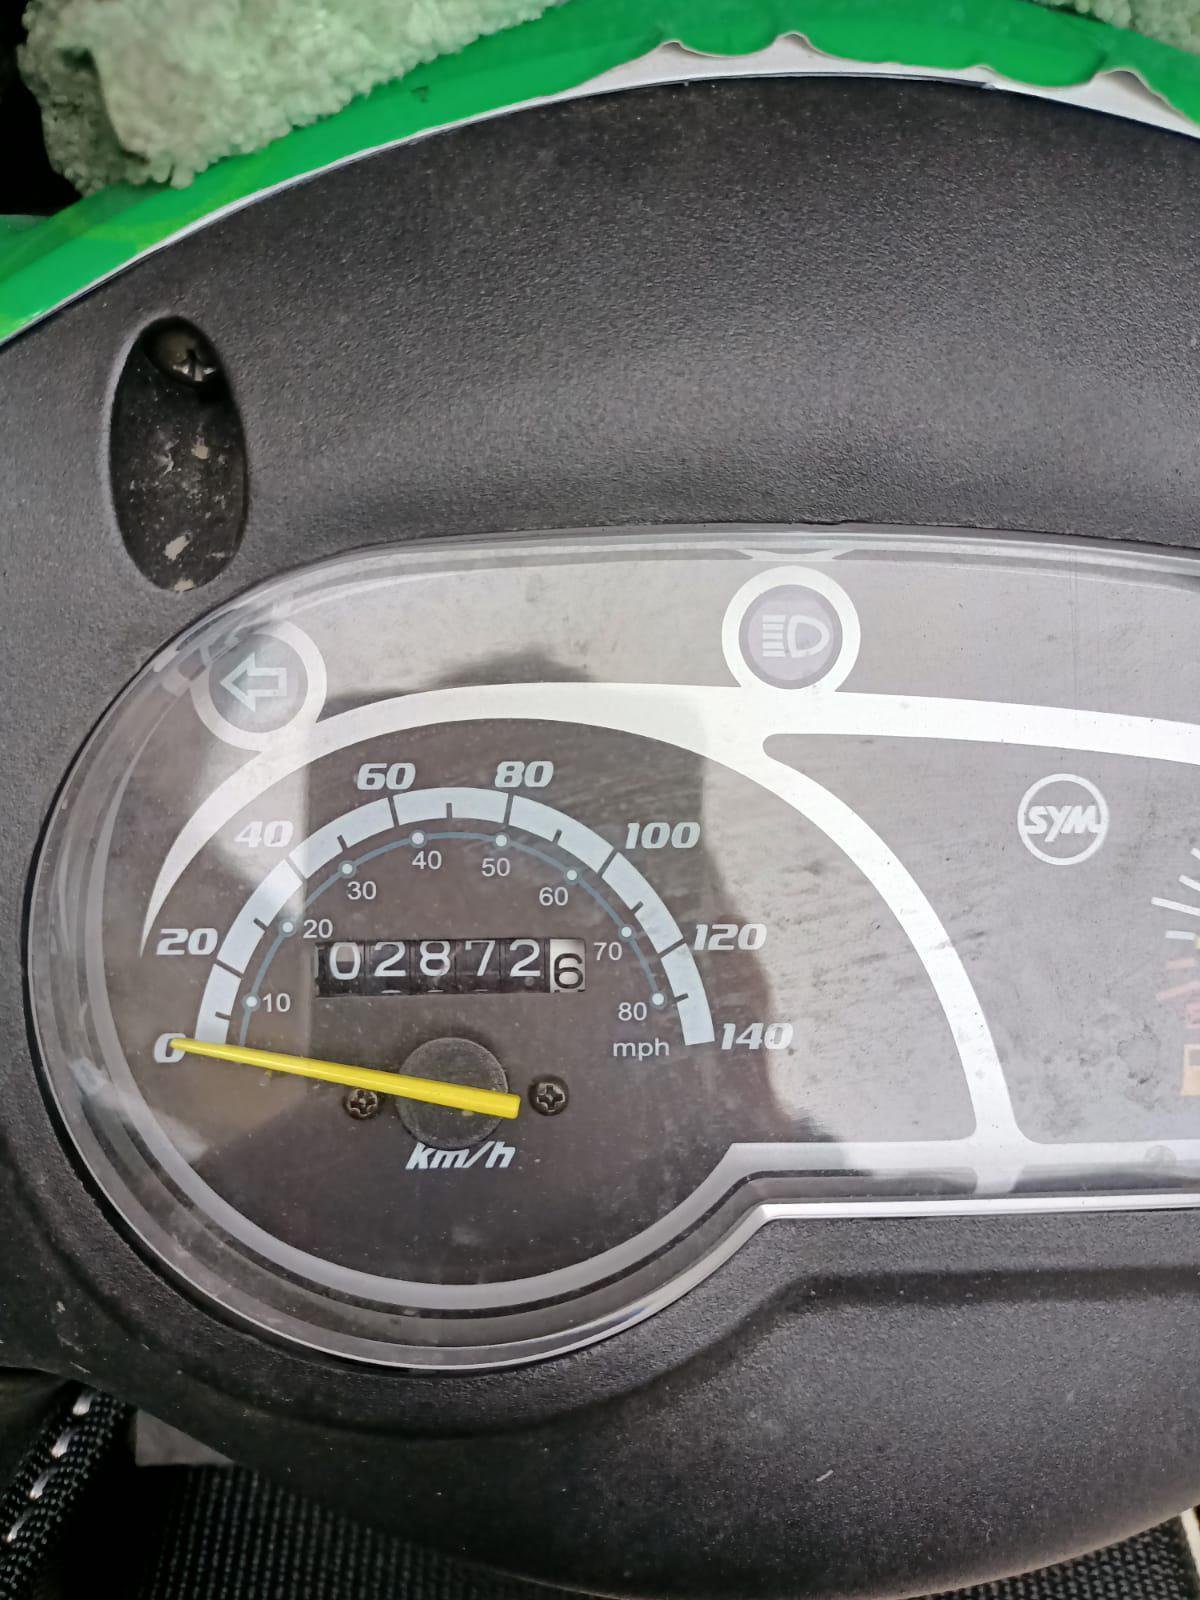0: (326, 939, 362, 981)
2: (505, 935, 545, 981), (371, 934, 408, 981)
6: (551, 947, 586, 989)
7: (461, 934, 495, 978)
8: (417, 939, 455, 978)
odometer: (311, 935, 592, 1000)
